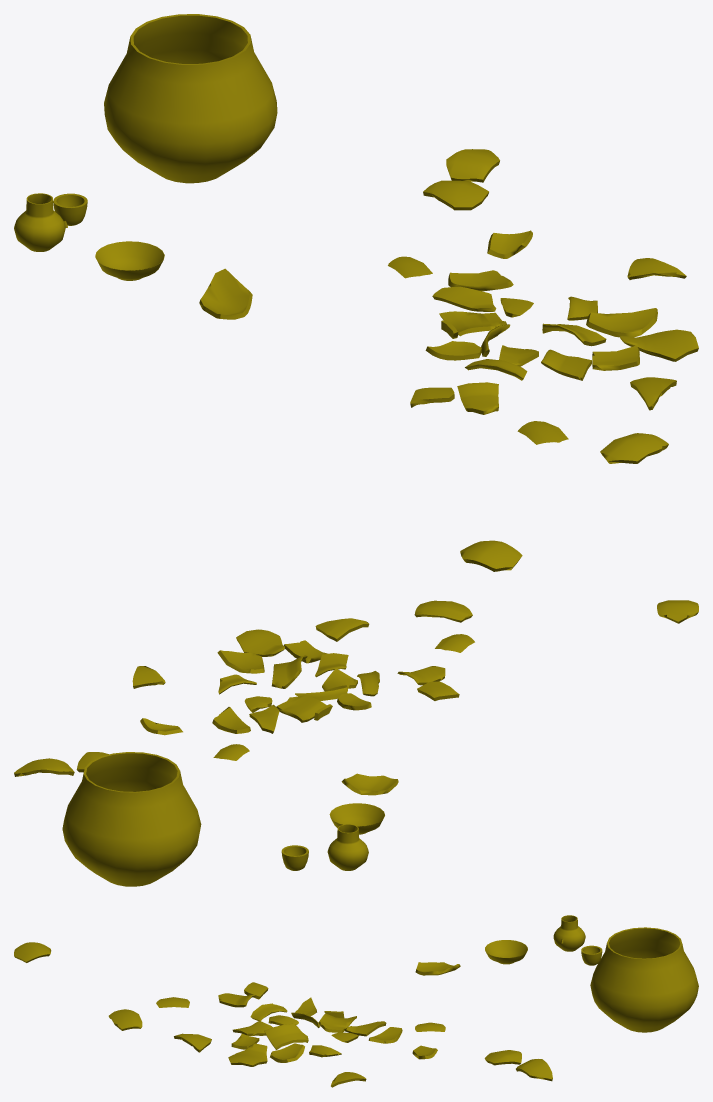
Rendered from SM_Kerpicler.fbx.
3 views of the same model, one above another, from view 1: azimuth 30°, elevation 25°; view 2: azimuth 150°, elevation 25°; view 3: azimuth 270°, elevation 25° (orthographic). The views are drawn at different scales.
Parts seen in each view (by area): view 1: OBJ_Kerpicler; view 2: OBJ_Kerpicler; view 3: OBJ_Kerpicler.
Boxes of the visible parts, x1,y1,x2,y2 form: OBJ_Kerpicler: (14, 14, 698, 571); OBJ_Kerpicler: (14, 600, 698, 886); OBJ_Kerpicler: (14, 915, 698, 1087).
Size of the model in its own units: 196 by 50.77 by 393.
